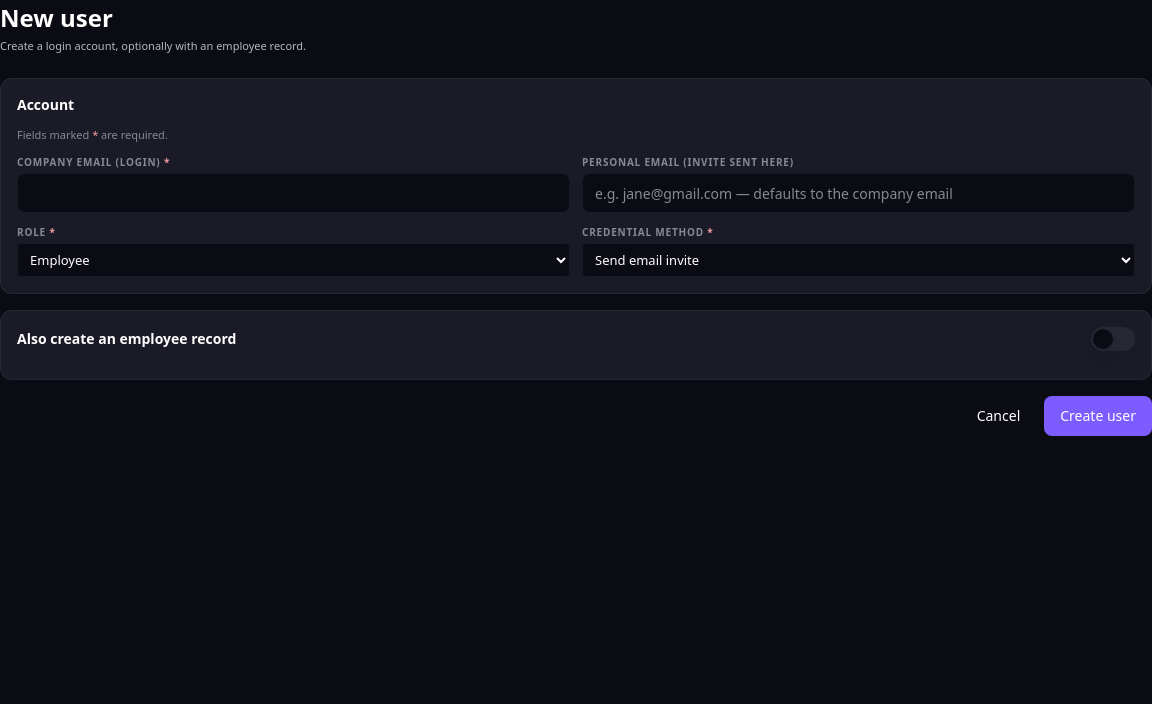
Test: UserCreatePage › Default Leaves panel › fetches preview and renders leave rows when both toggles are on
The width and height of the screenshot is (1152, 704).
# turn on employee creation
Click the switch named "create an employee record".
click(1113, 339)  # box [1091,327,1135,351]
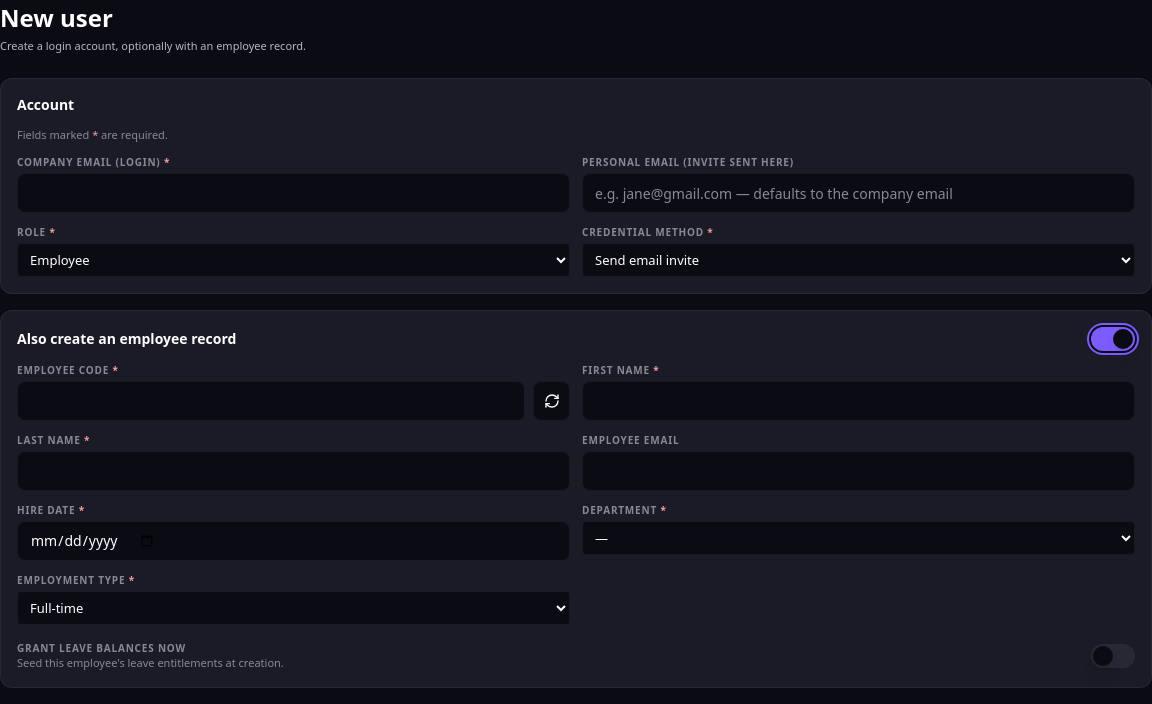
# fill hire date and department (needed for preview fetch)
Type "2026-07-01" into the date field labelled "Hire date *".
click(294, 541); type("2026-07-01")  # box [17,521,570,561]
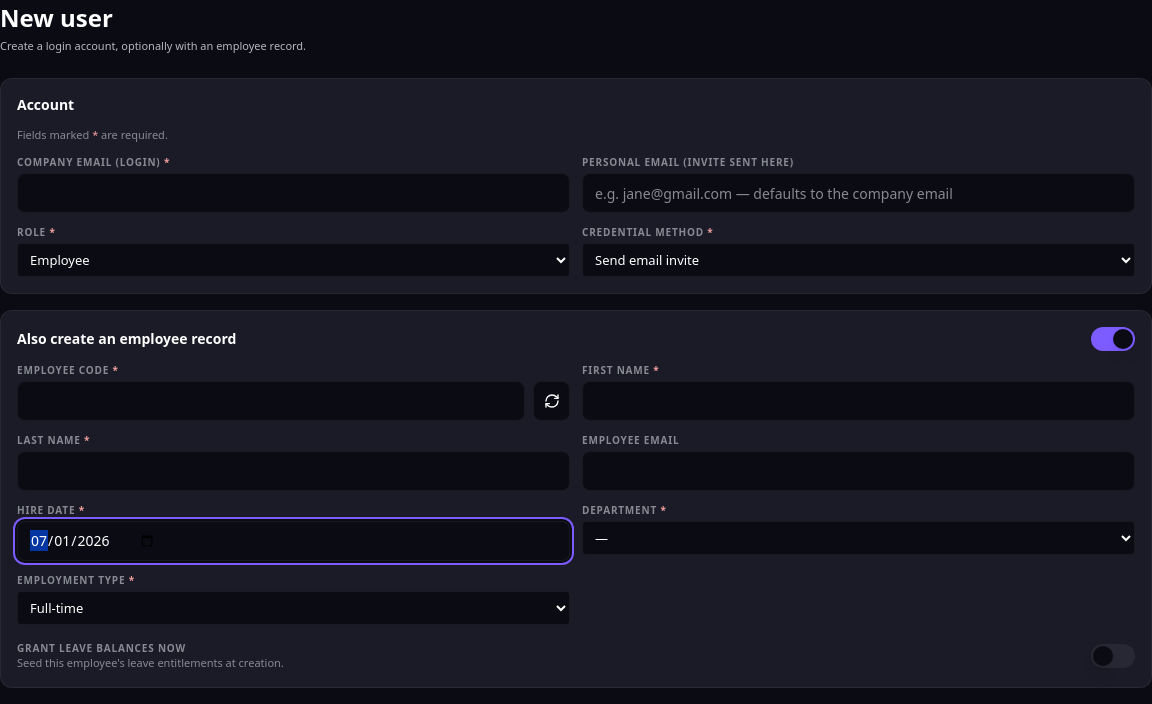
Select "Engineering" in the dropdown labelled "Department *" at (858, 538), box [582,521,1135,555]
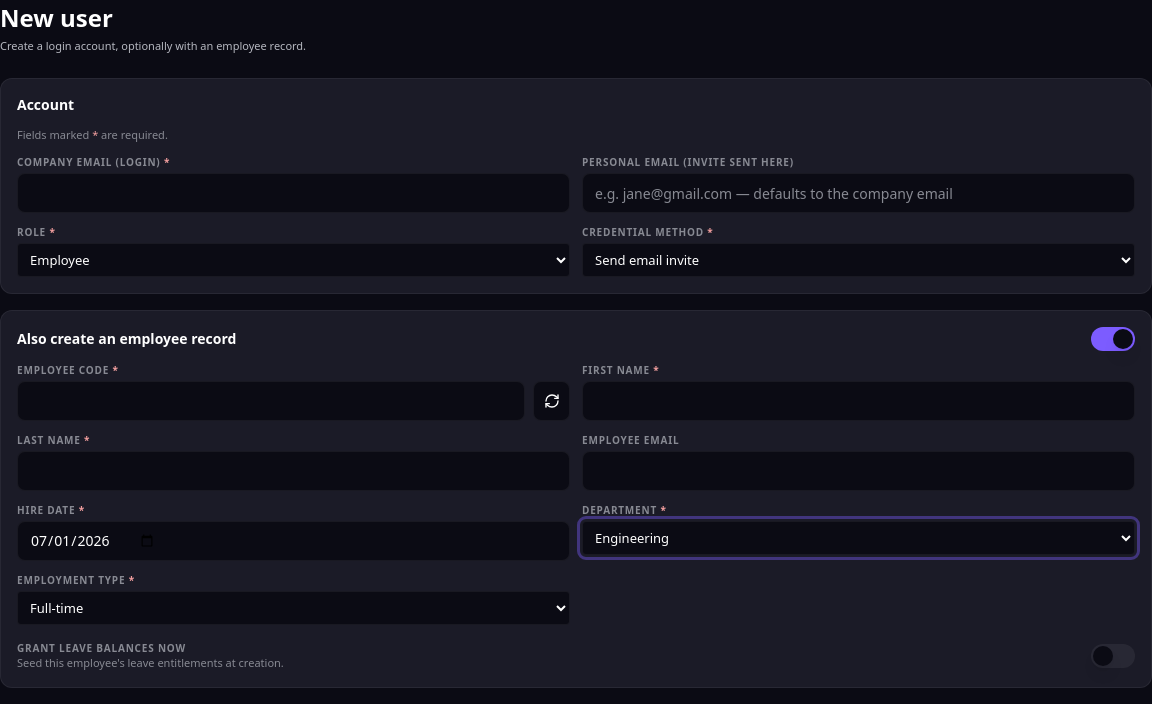
# turn on grant leave
Click the switch named "grant leave balances".
click(1113, 656)  # box [1091,644,1135,668]
(page scrolled)
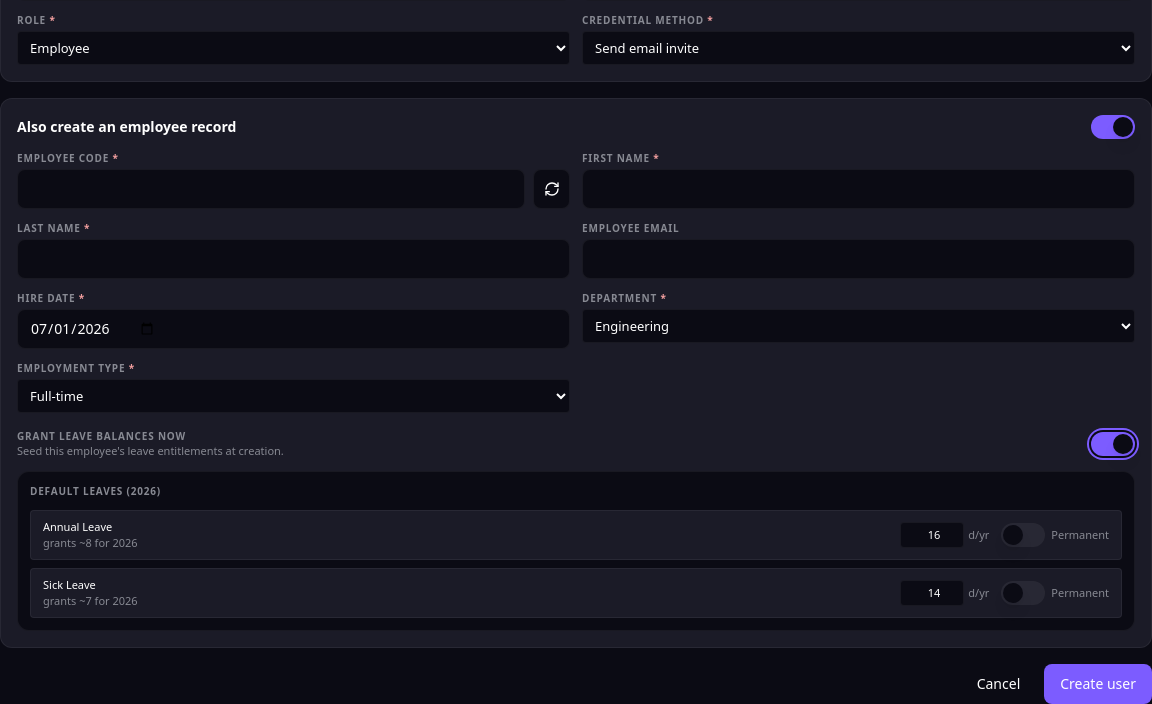
Expected: the text "grants ~8 for 2026" is shown, [43,535,138,550]
